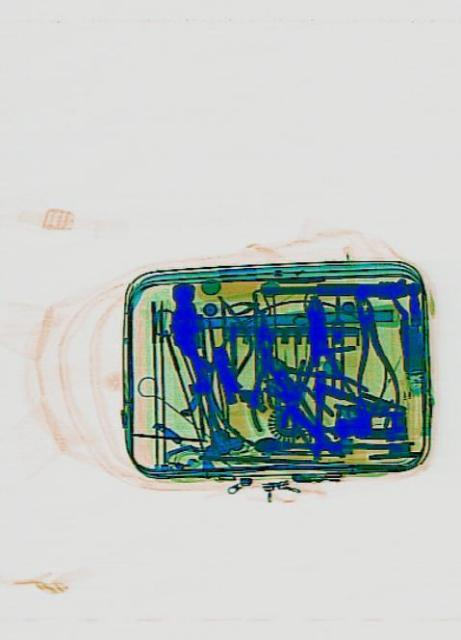Pliers: (282, 292, 358, 428), (234, 306, 300, 434), (339, 286, 402, 416)
